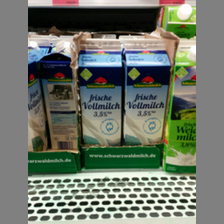milk: (122, 41, 171, 148), (80, 48, 121, 150), (42, 43, 79, 148)
